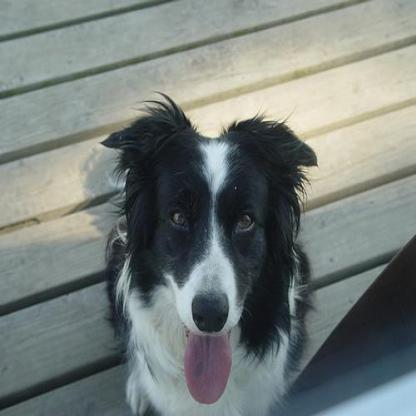Border_collie: (96, 86, 324, 414)
